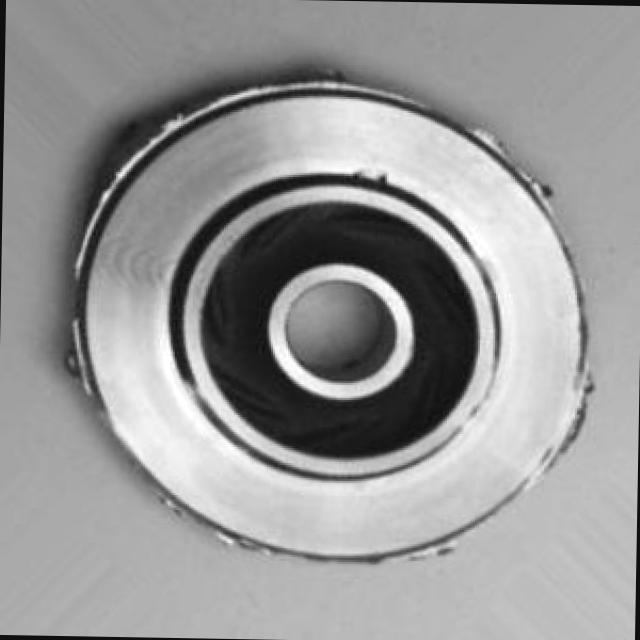Defect: (52, 320, 98, 392)
